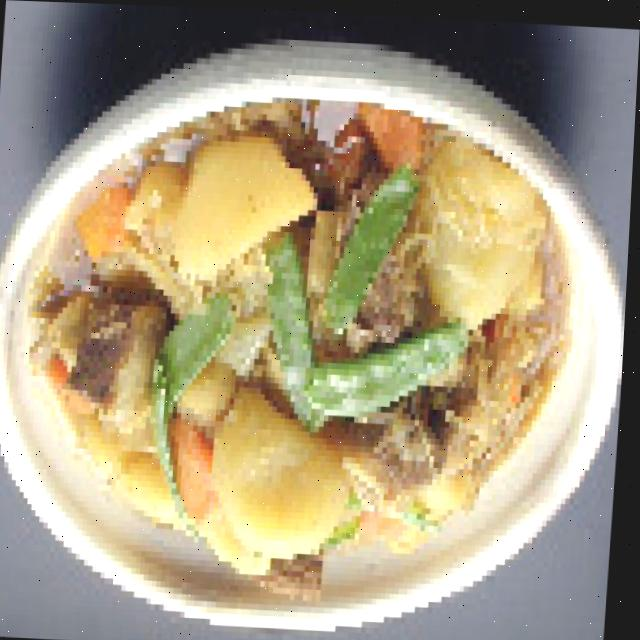牛肉菜式: (0, 29, 639, 640)
